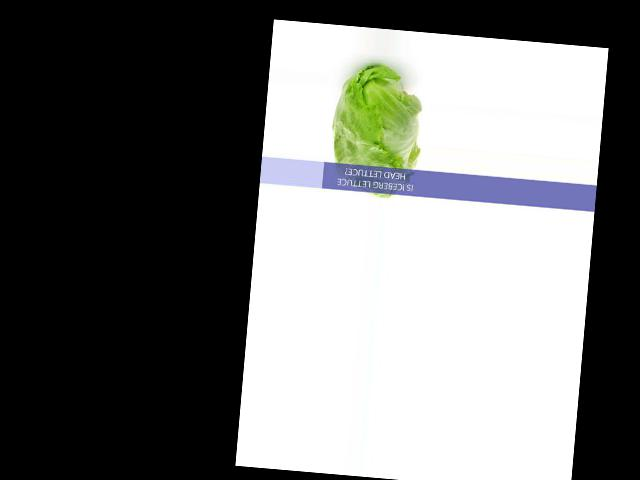lettuce: (297, 97, 426, 200)
